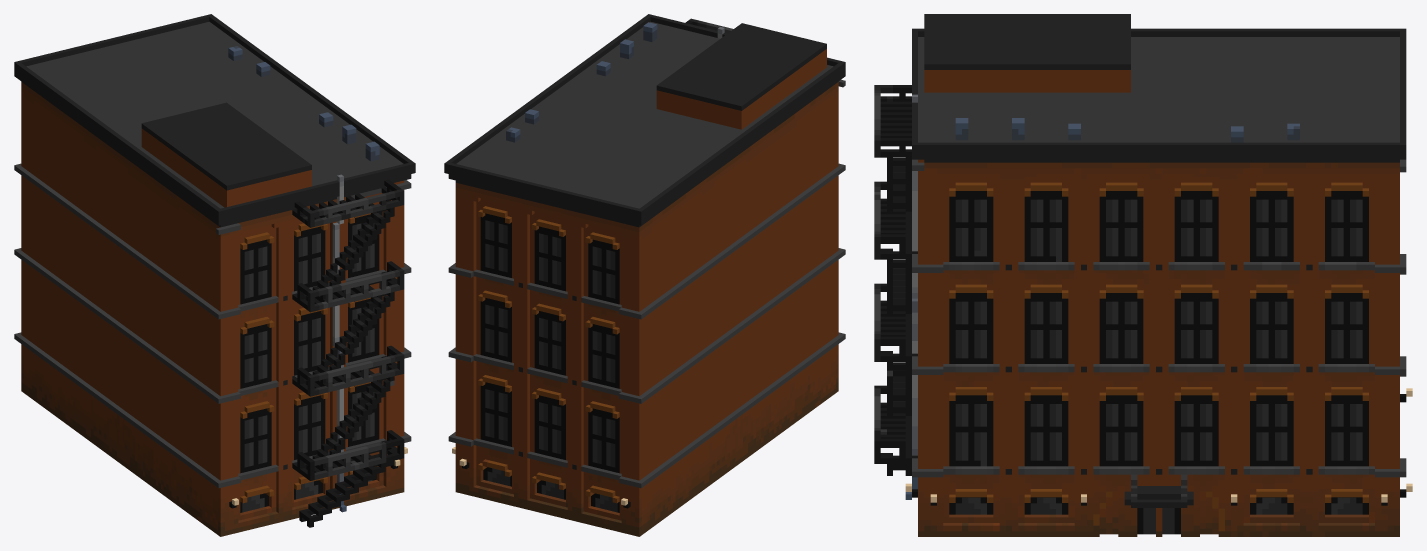
File: Building.obj
3 views of the same model, side by side, from view 1: azimuth 30°, elevation 25°; view 2: azimuth 150°, elevation 25°; view 3: azimuth 270°, elevation 25° (orthographic). The views are drawn at different scales.
Bounding box in the file's own units: 4.6 × 7.4 × 8.6.
Materials: 1 (1 with a texture image).
